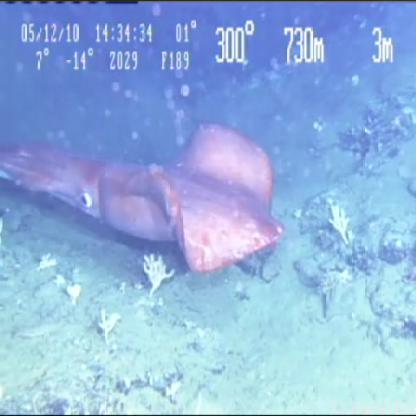Bio: (1, 120, 289, 280), (138, 250, 178, 300), (96, 305, 124, 349)
